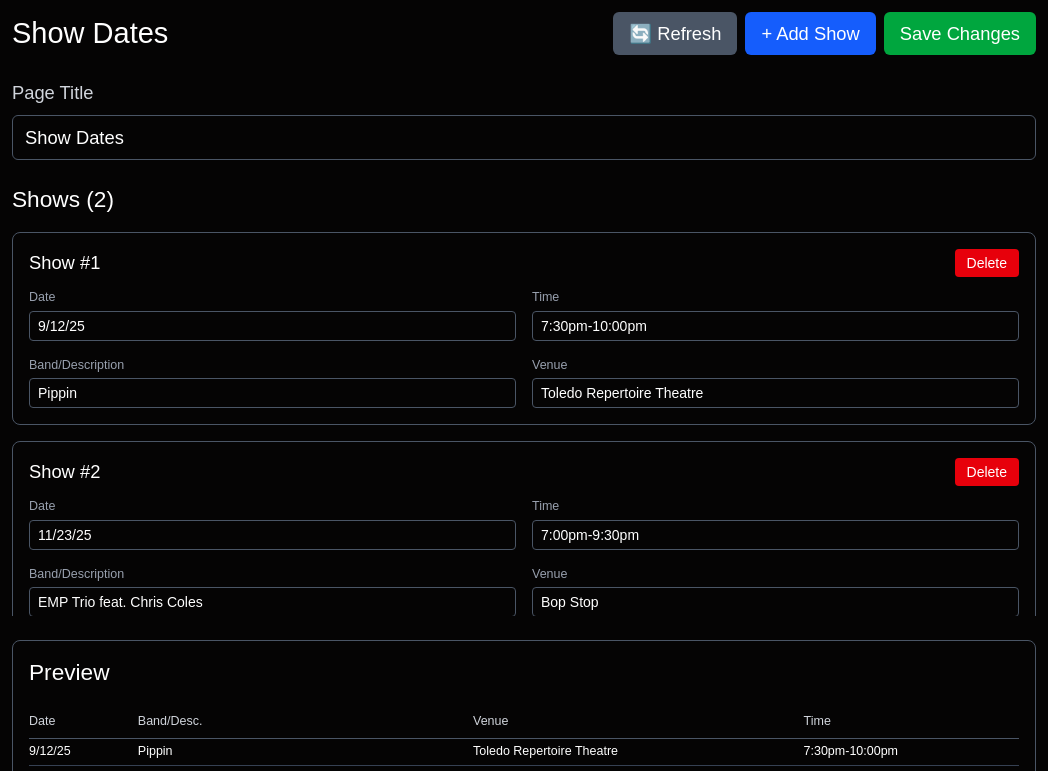
Test: Shows Admin Editor › Show Management › allows adding a new show
This screenshot has width=1048, height=771.
Check: the heading "Shows (2)" is shown, box [12,186,114,212]
Step 1. Click the button "+ Add Show" → (811, 34), box [745,12,876,56]
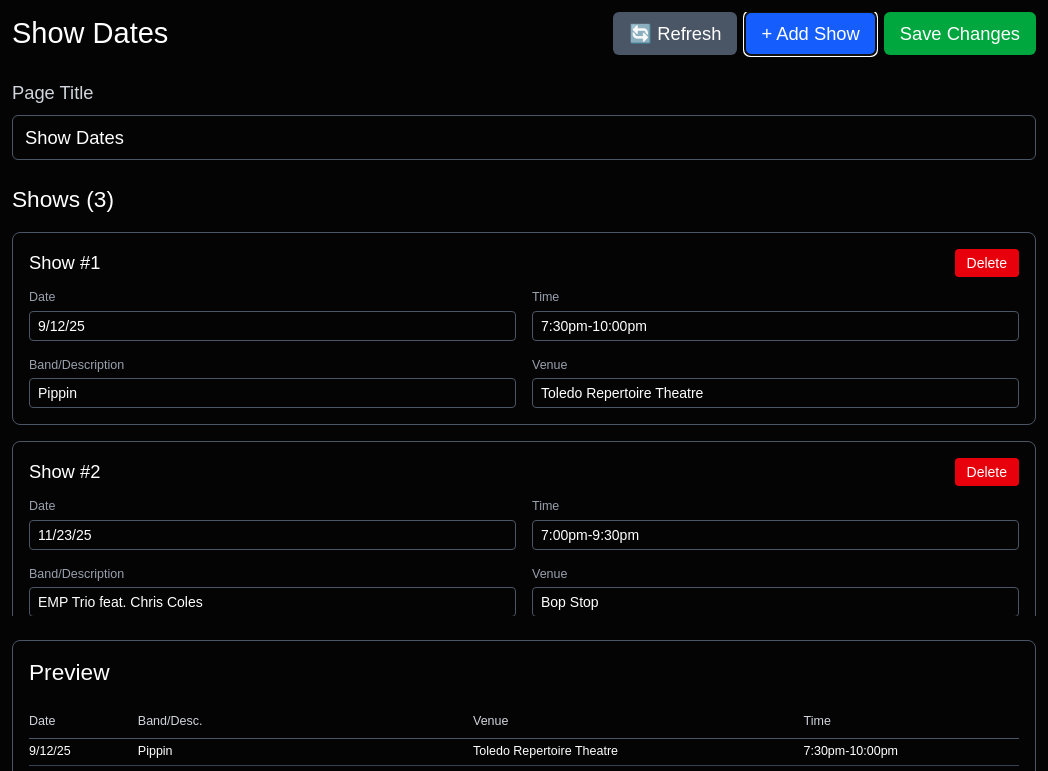
Check: the heading "Shows (3)" is shown, box [12,186,114,212]
